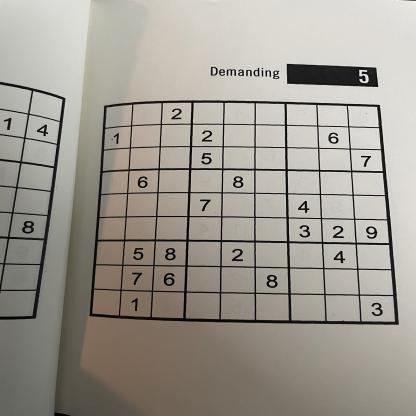sudoku: (86, 98, 402, 326)
